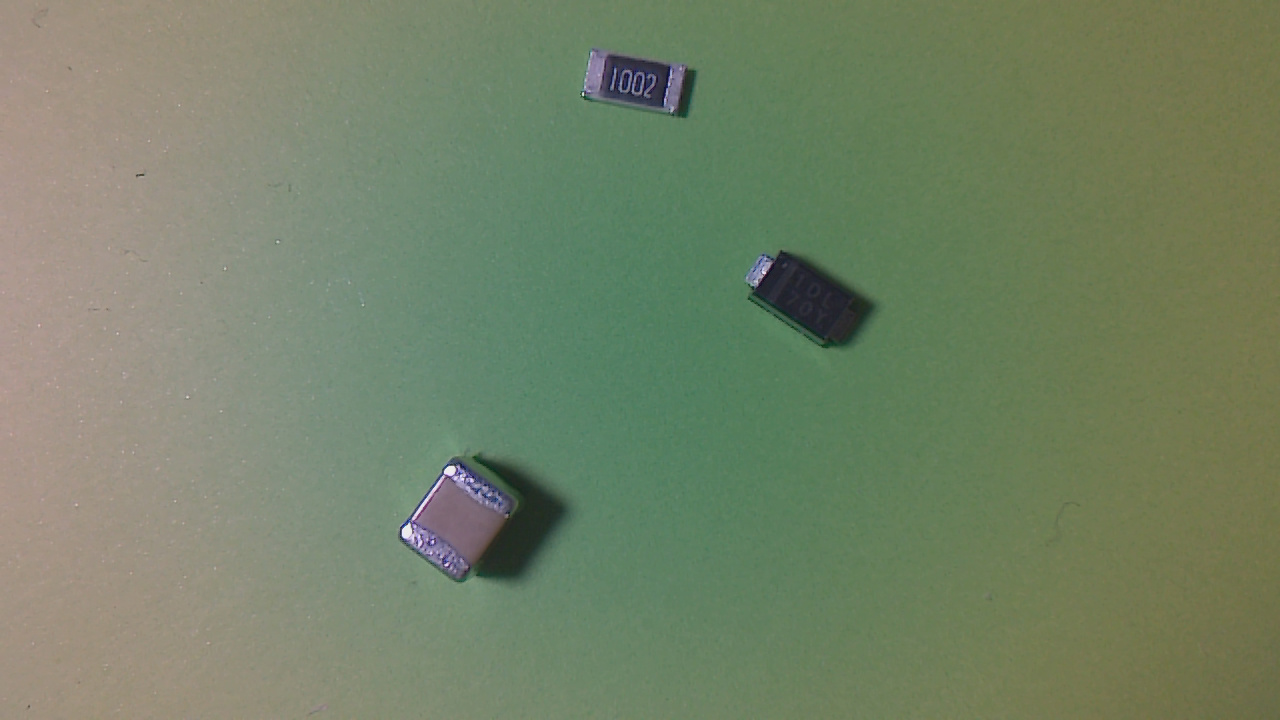Condensator: (402, 461, 530, 590)
Diode: (750, 252, 868, 353)
Resistor: (583, 50, 695, 121)
